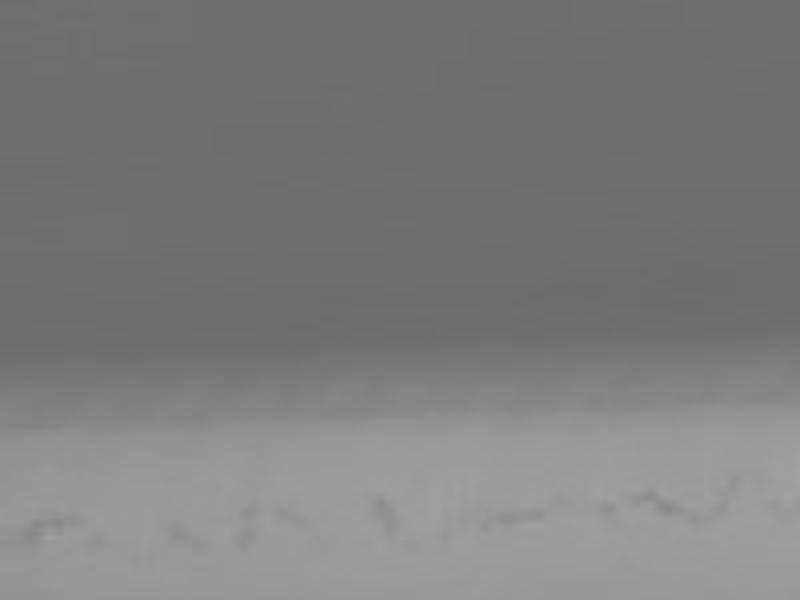defect: (496, 503, 549, 526), (644, 487, 680, 517), (268, 503, 306, 526), (20, 517, 43, 552), (229, 524, 256, 551), (710, 488, 735, 517), (83, 527, 108, 553), (470, 516, 497, 538), (721, 469, 749, 490), (594, 496, 618, 520), (237, 500, 260, 524), (165, 522, 189, 544), (399, 535, 426, 554), (372, 496, 393, 519), (549, 489, 570, 510), (42, 513, 65, 531), (688, 510, 709, 529), (383, 515, 399, 535)
